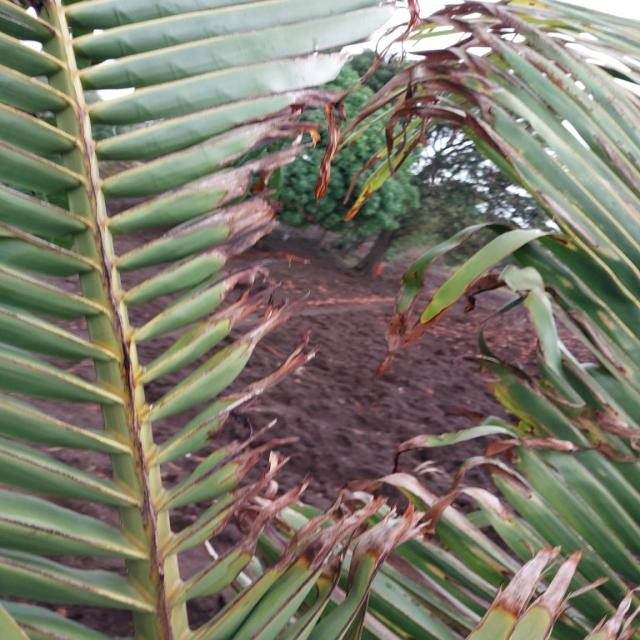leaf rot: (127, 0, 584, 596)
